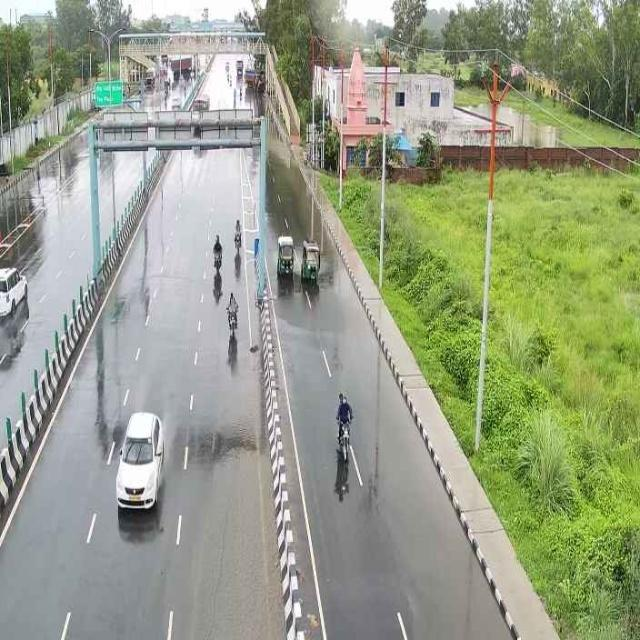car: (109, 402, 168, 525), (1, 260, 31, 323)
